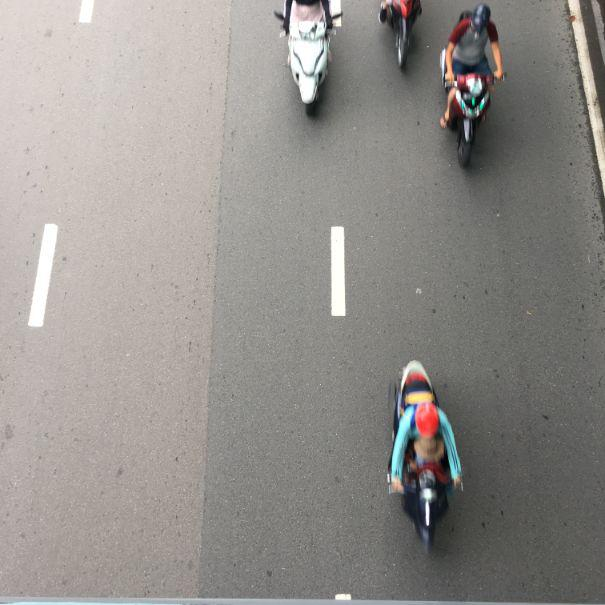motorbike: (383, 360, 468, 557), (435, 5, 506, 170), (272, 1, 339, 111)
